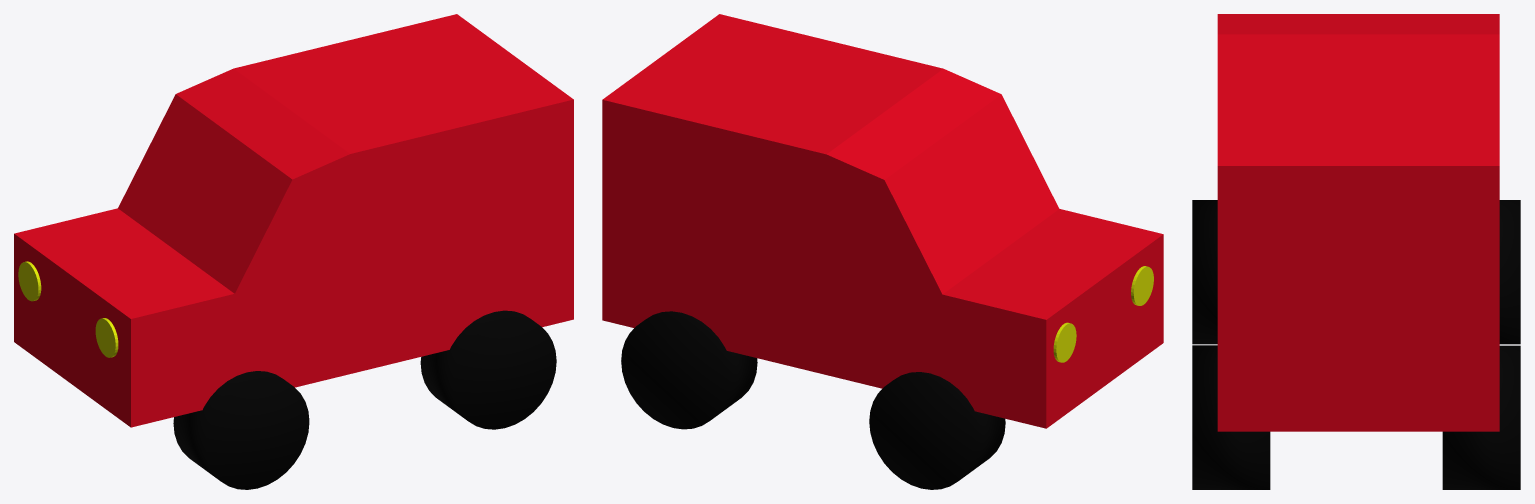
File: coche.glb
The picture shows the model from 3 angles, left to right: view 1: azimuth 30°, elevation 25°; view 2: azimuth 150°, elevation 25°; view 3: azimuth 270°, elevation 25°; orthographic projection. The views are drawn at different scales.
Parts seen in each view (by area): view 1: Cube, Cylinder.003, Cylinder.002, Cylinder.004, Cylinder.005; view 2: Cube, Cylinder, Cylinder.001, Cylinder.005, Cylinder.004; view 3: Cube, Cylinder.003, Cylinder.001, Cylinder.002, Cylinder.
Part boxes in pixels (bbox=[...]): Cube: bbox=[14, 14, 573, 427]; Cylinder.003: bbox=[420, 310, 556, 429]; Cylinder.002: bbox=[173, 371, 309, 489]; Cylinder.004: bbox=[95, 318, 118, 357]; Cylinder.005: bbox=[18, 261, 41, 301]; Cube: bbox=[602, 14, 1163, 428]; Cylinder: bbox=[869, 372, 1005, 489]; Cylinder.001: bbox=[621, 311, 757, 429]; Cylinder.005: bbox=[1053, 322, 1076, 362]; Cylinder.004: bbox=[1131, 266, 1153, 305]; Cube: bbox=[1217, 14, 1499, 431]; Cylinder.003: bbox=[1192, 345, 1270, 489]; Cylinder.001: bbox=[1442, 345, 1520, 489]; Cylinder.002: bbox=[1192, 200, 1217, 344]; Cylinder: bbox=[1499, 200, 1520, 344].
Size of the model in its own units: 8.6 by 5.56 by 4.55.
